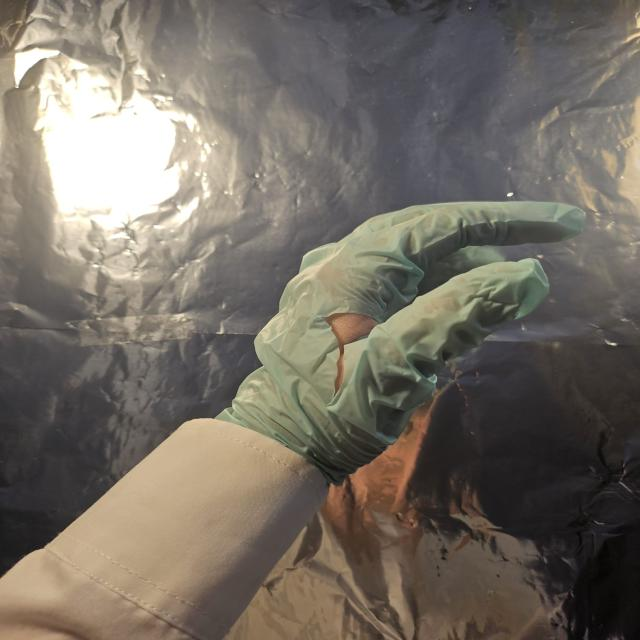gloves_damaged: (214, 197, 592, 477)
